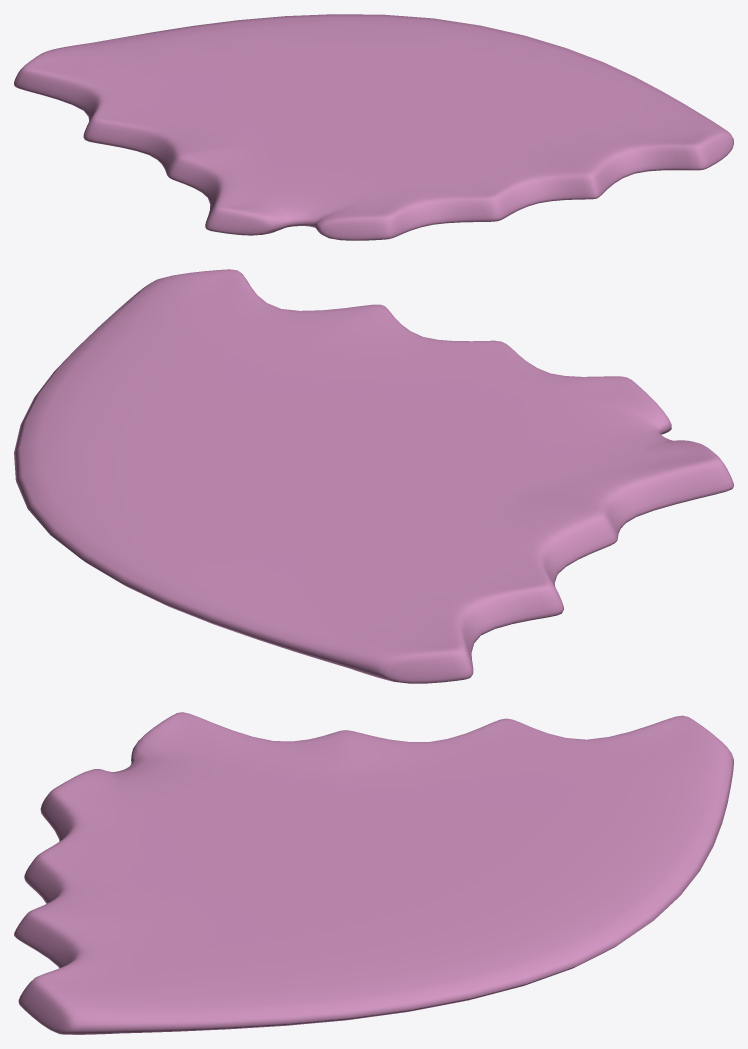
The model's file is CapePieceTurn_TornFront_TornBack.fbx.
3 views of the same model, one above another, from view 1: azimuth 30°, elevation 25°; view 2: azimuth 150°, elevation 25°; view 3: azimuth 270°, elevation 25° (orthographic). The views are drawn at different scales.
Parts seen in each view (by area): view 1: CapePieceTurn_TornFront_TornBack; view 2: CapePieceTurn_TornFront_TornBack; view 3: CapePieceTurn_TornFront_TornBack.
Boxes of the visible parts, x1,y1,x2,y2 form: CapePieceTurn_TornFront_TornBack: (14,14,733,240); CapePieceTurn_TornFront_TornBack: (14,269,733,683); CapePieceTurn_TornFront_TornBack: (14,712,733,1034).
Size of the model in its own units: 0.937 by 0.0479 by 0.9315.
